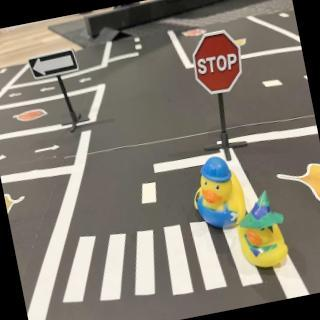duck_regular: (232, 189, 294, 276)
duck_specialty: (187, 154, 250, 236)
road_crosswalk: (50, 200, 266, 320)
road_oneway: (31, 140, 62, 157), (78, 74, 96, 86), (39, 85, 58, 95), (9, 89, 25, 100), (1, 151, 9, 163)
sign_oneway_left: (27, 49, 81, 82)
sign_stop: (188, 28, 249, 100)
